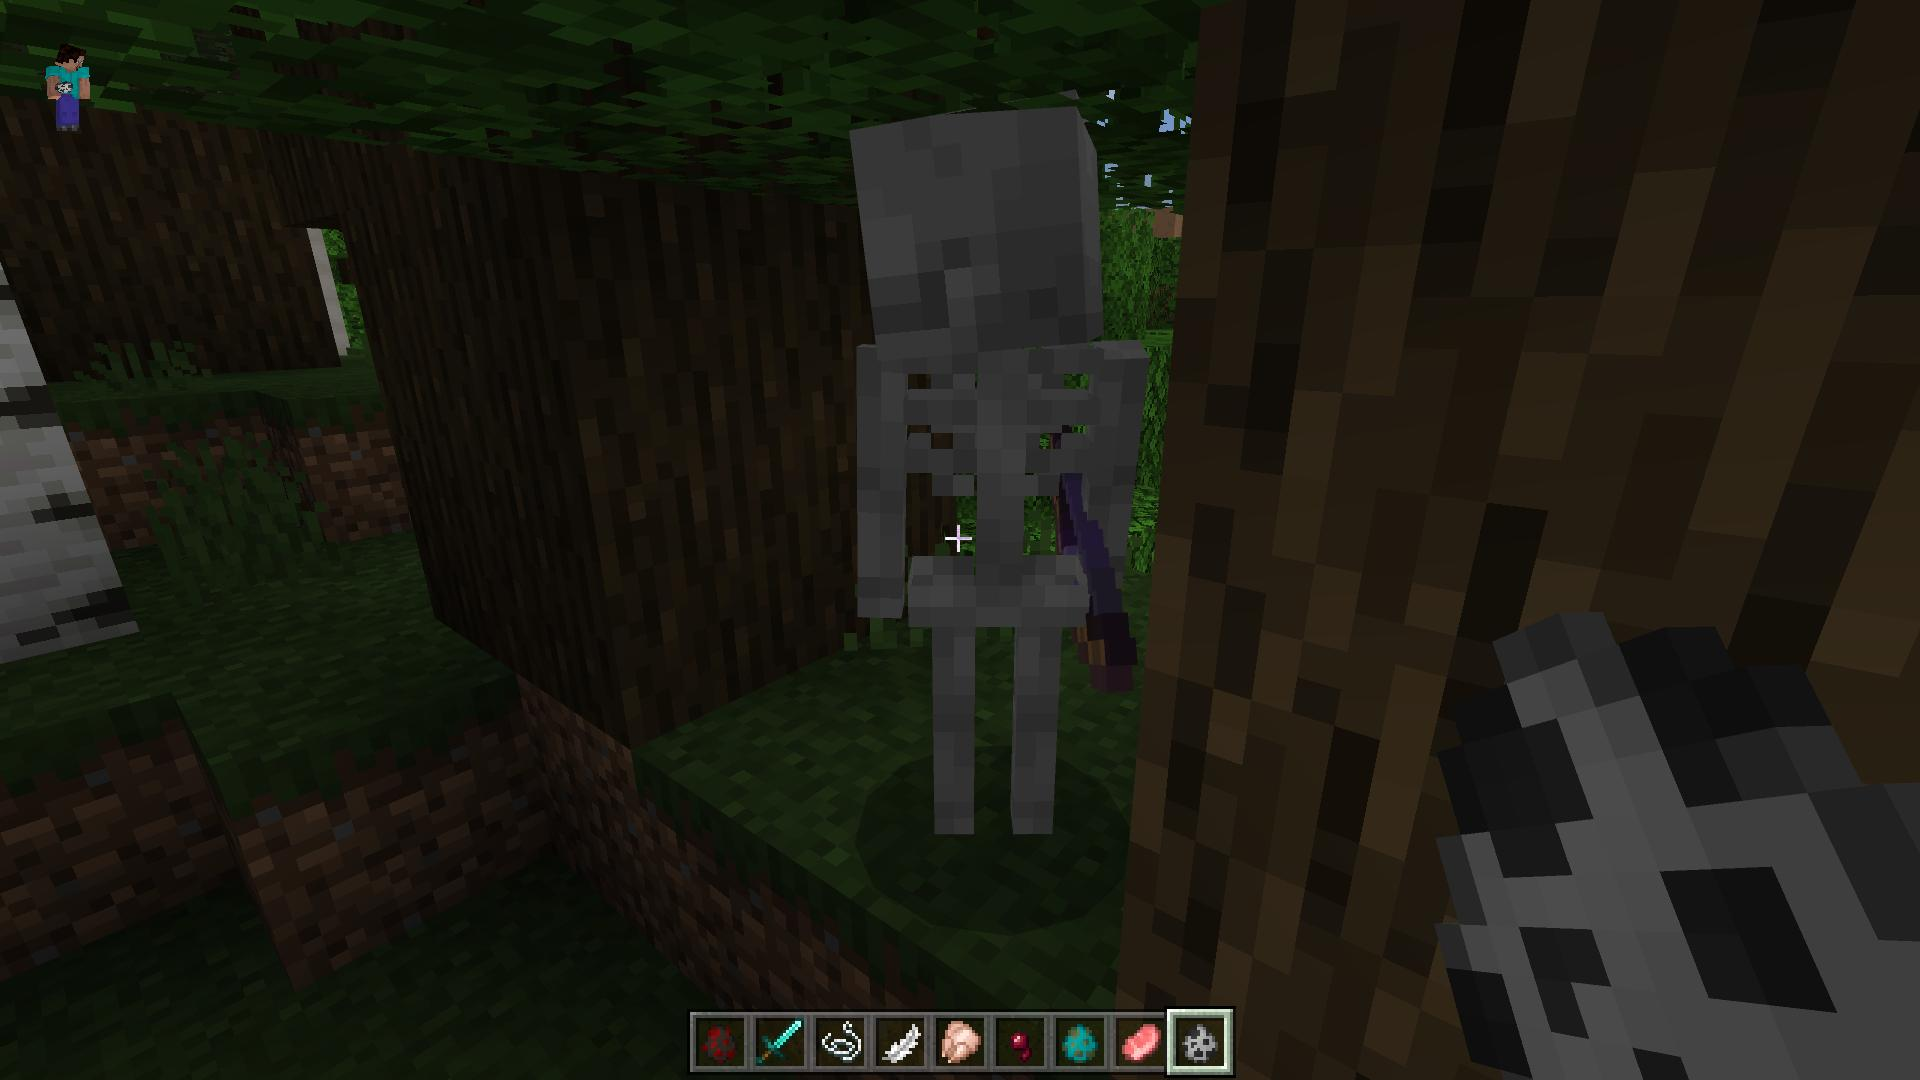skeleton: (840, 100, 1155, 841)
